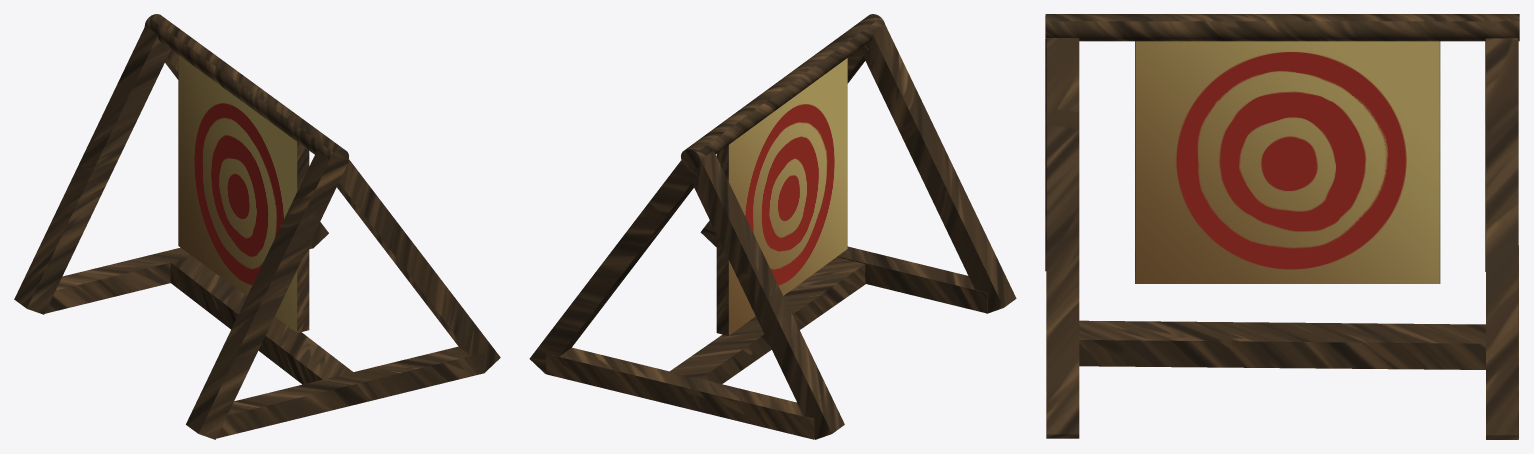
Rendered from schraag met roos.fbx.
The picture shows the model from 3 angles, left to right: view 1: azimuth 30°, elevation 25°; view 2: azimuth 150°, elevation 25°; view 3: azimuth 270°, elevation 25°; orthographic projection. The views are drawn at different scales.
Visible parts, largest first — view 1: schraag, roos; view 2: schraag, roos; view 3: roos, schraag.
Boxes of the visible parts, box(x1,y1,x2,y2) form: schraag: box(14, 25, 500, 439); roos: box(144, 14, 348, 332); schraag: box(529, 24, 1016, 439); roos: box(681, 14, 884, 335); roos: box(1045, 14, 1519, 283); schraag: box(1045, 15, 1518, 439).
Bounding box in the file's own units: 16.41 × 13.49 × 17.36.
Materials: 1 (1 with a texture image).
